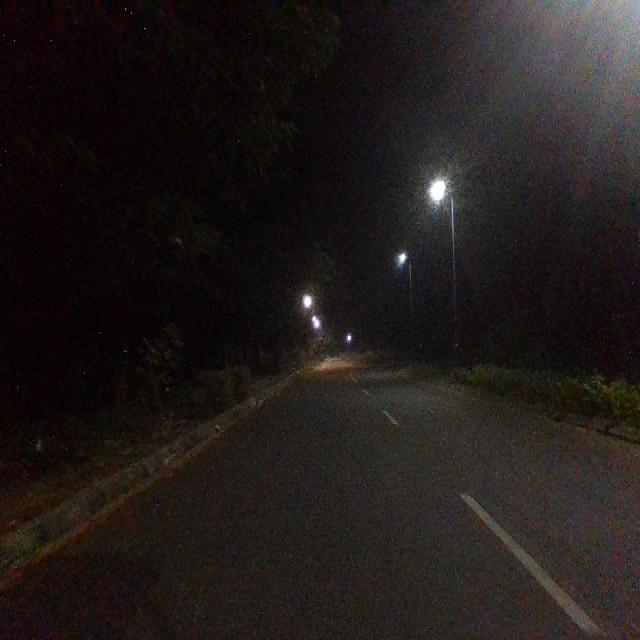lane: (0, 376, 590, 639)
